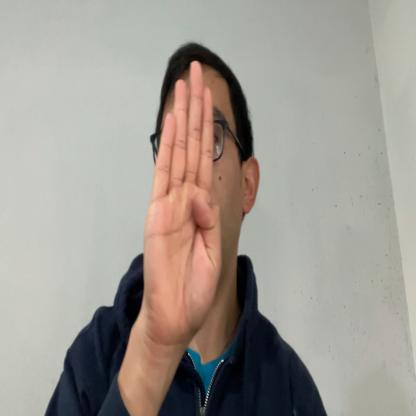B: (142, 61, 224, 339)
